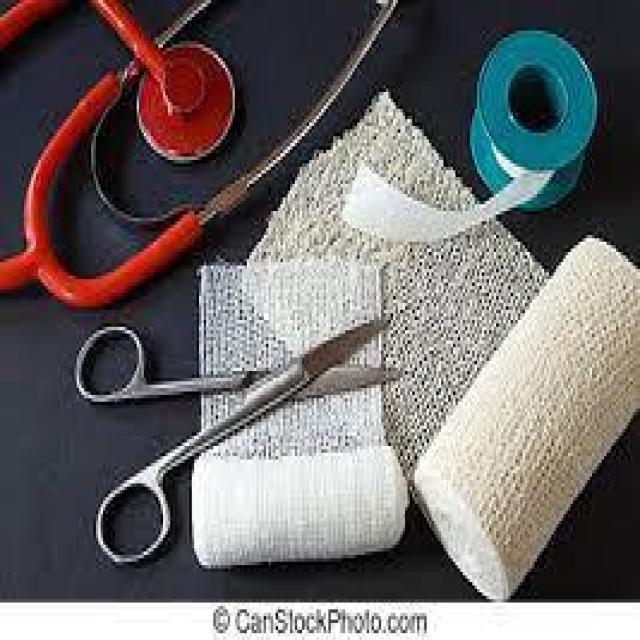B3: (402, 211, 640, 623), (65, 293, 412, 473), (175, 429, 417, 582)
